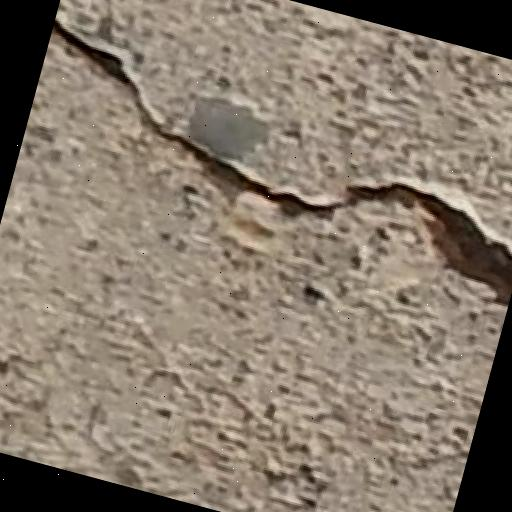spalling: (46, 8, 512, 316)
